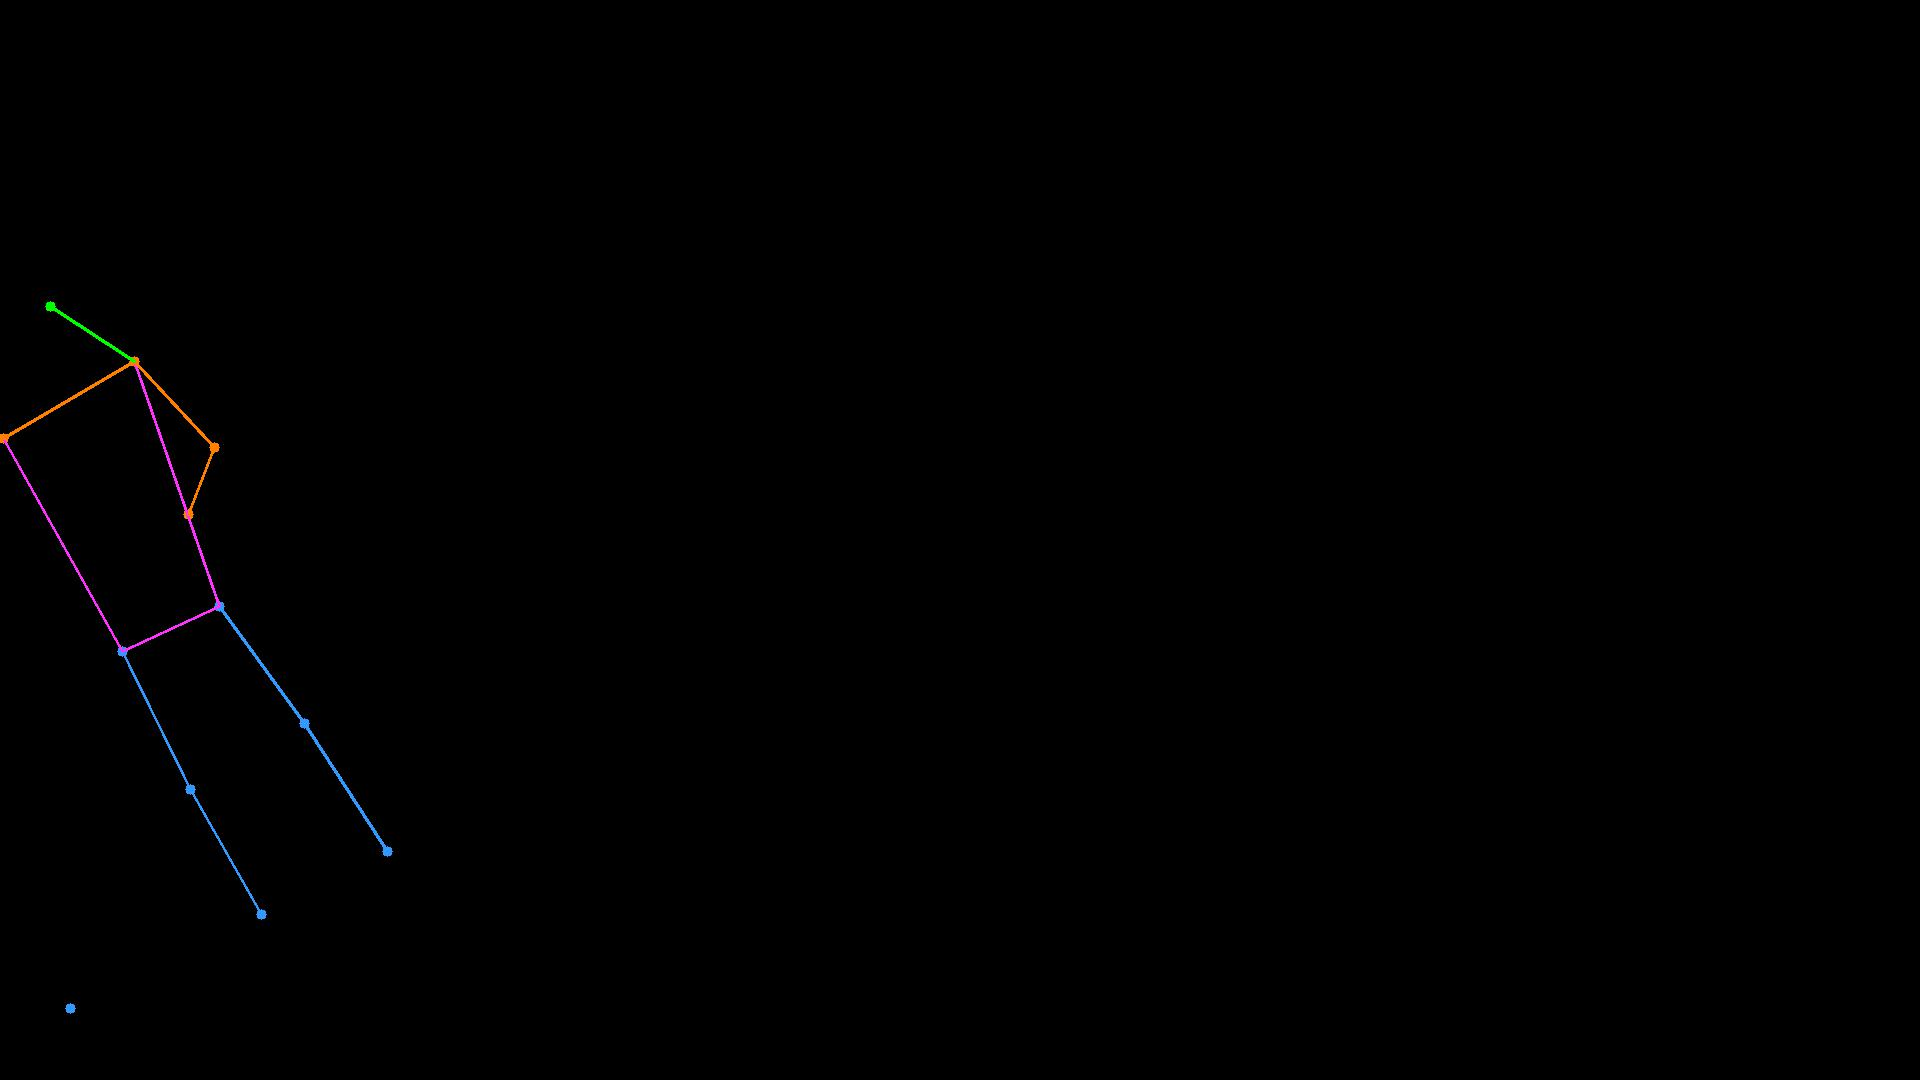normal: (1, 287, 414, 942)
